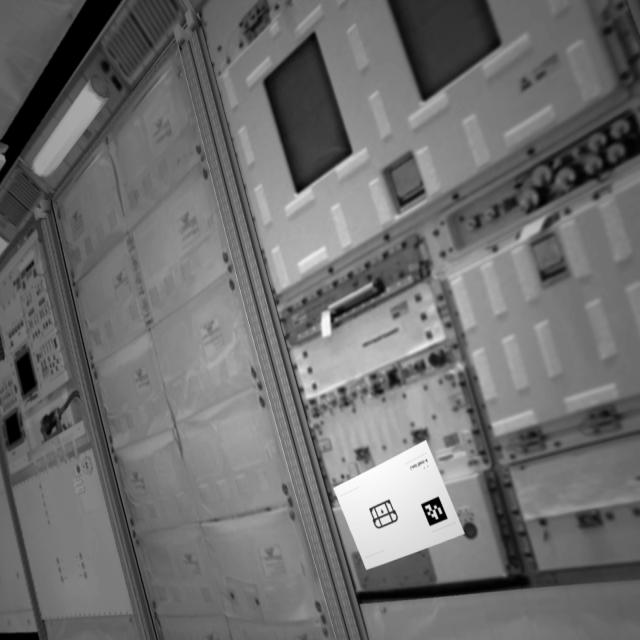treasure_box: (368, 496, 402, 534)
